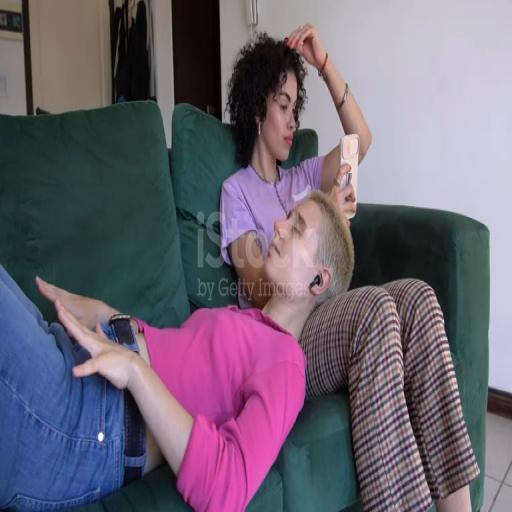earphone: (308, 266, 320, 296)
